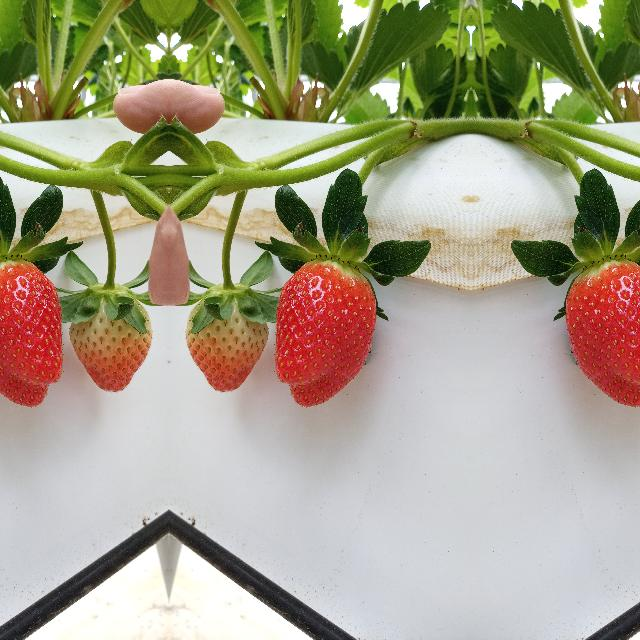Health_100: (273, 258, 377, 408), (564, 258, 640, 407), (0, 258, 63, 407)
Health_75: (68, 294, 152, 401), (185, 294, 268, 401)
